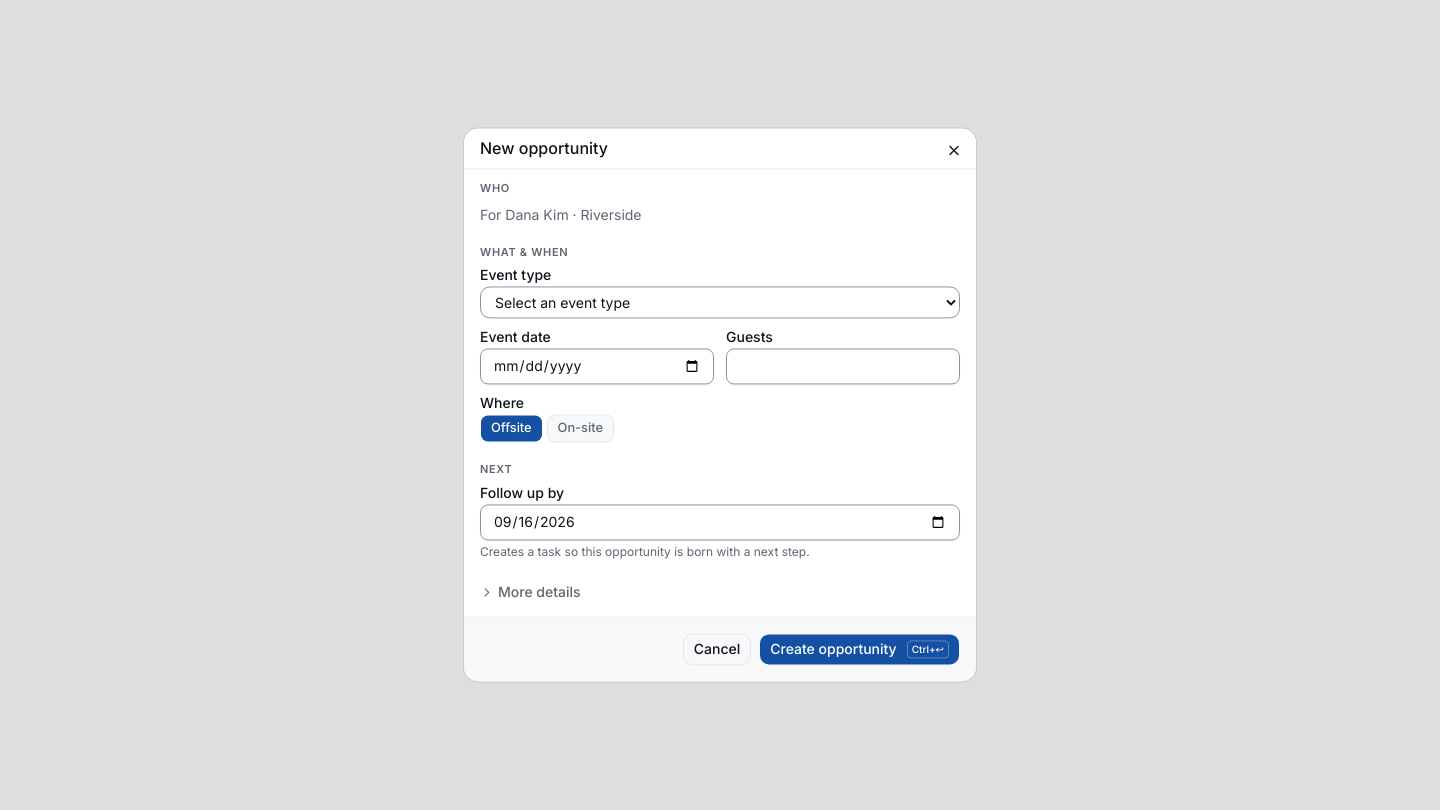
NewOpportunityForm linked mode › delivery-mode toggle › hides the Where toggle while the picked/typed type matches a profile, and restores it after
Expected: the element named "Where" is shown, [480, 415, 614, 443]
Select "Wedding" in the dropdown labelled "Event type": [720, 303] box [480, 287, 960, 319]
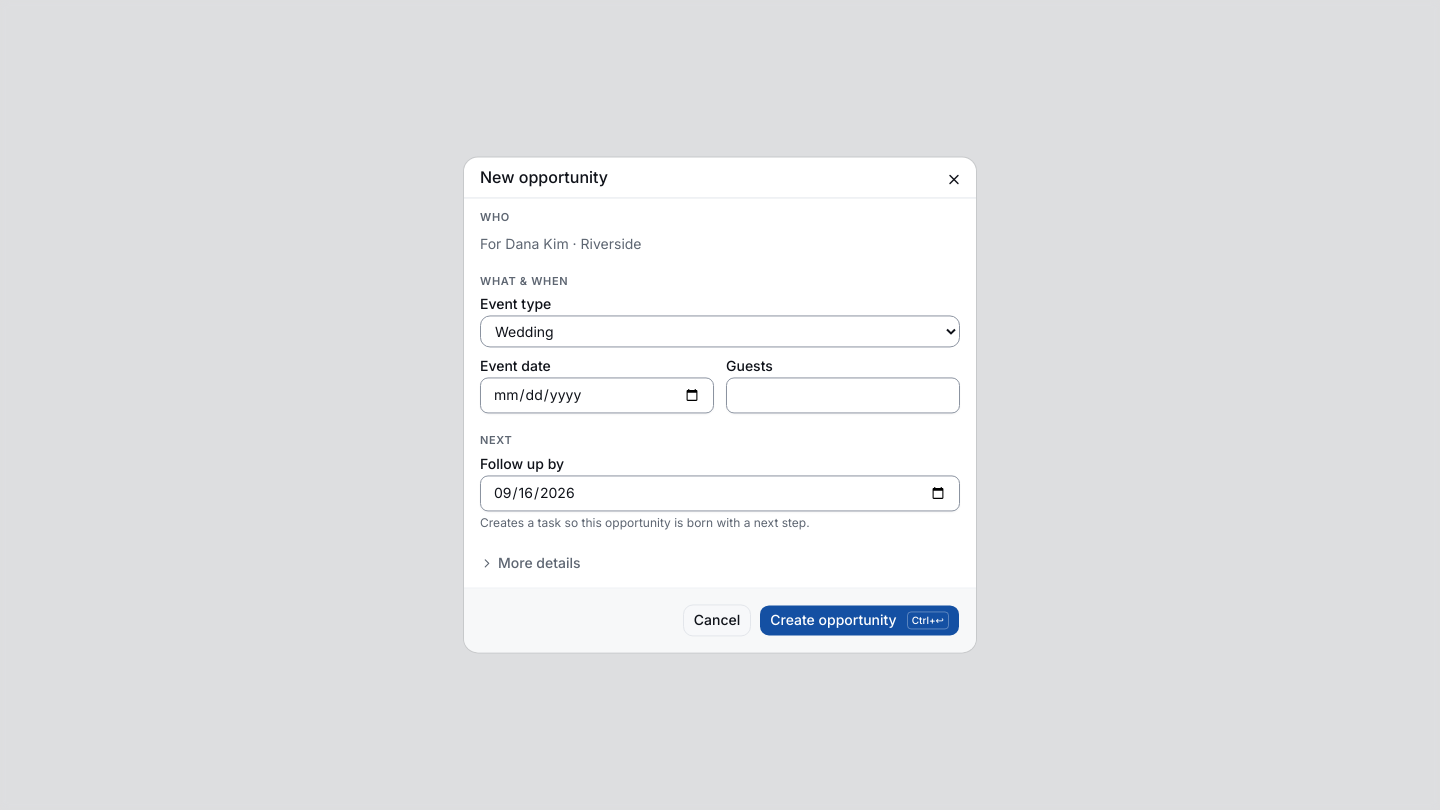
Result: the label "Where" is gone
# "Something else…" empties the value → no match → the toggle returns…
Select "Something else…" in the dropdown labelled "Event type": [720, 332] box [480, 316, 960, 348]
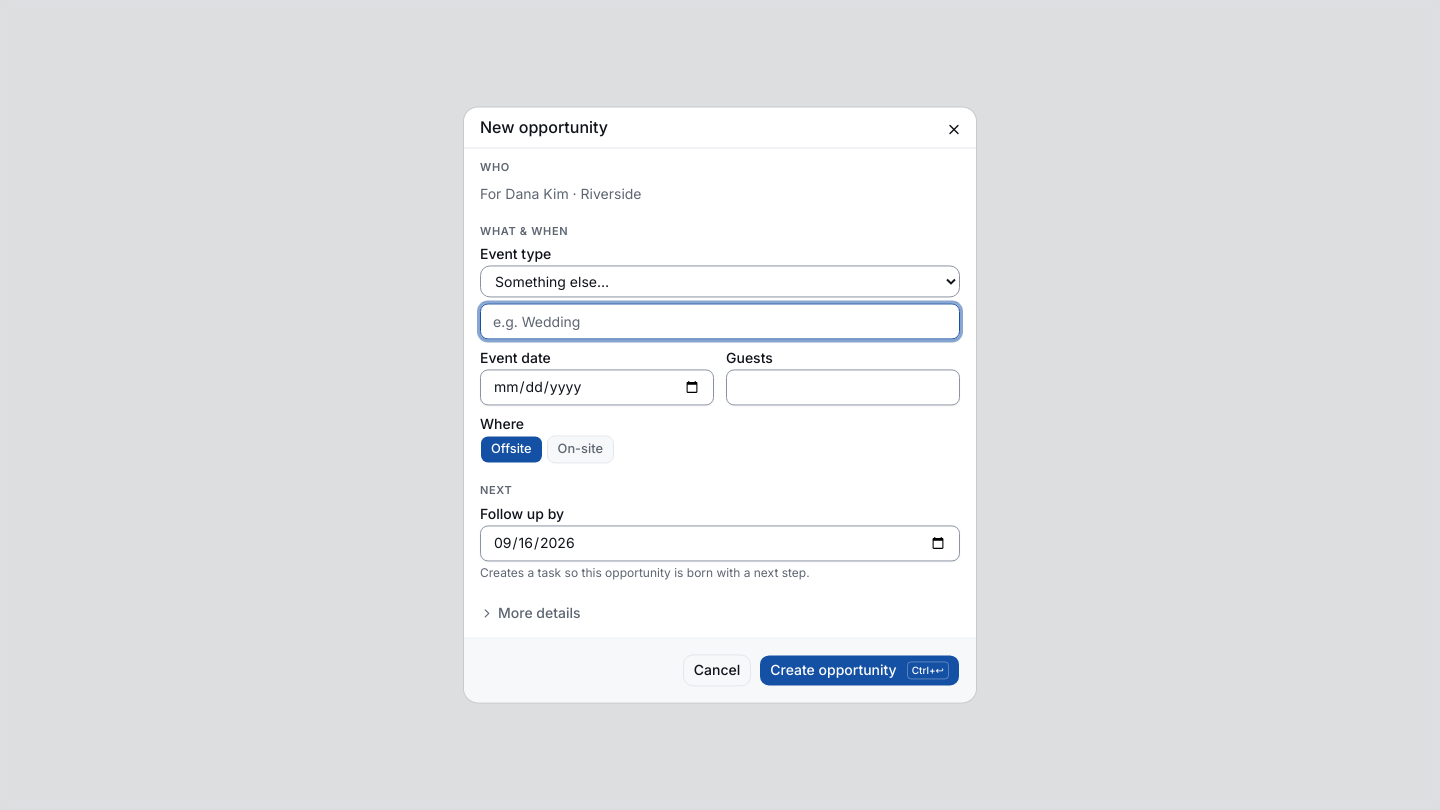
Result: the element named "Where" is shown at [480, 436, 614, 464]
In the field named "Custom event type": [720, 322] box [480, 304, 960, 340], type "  wedding "
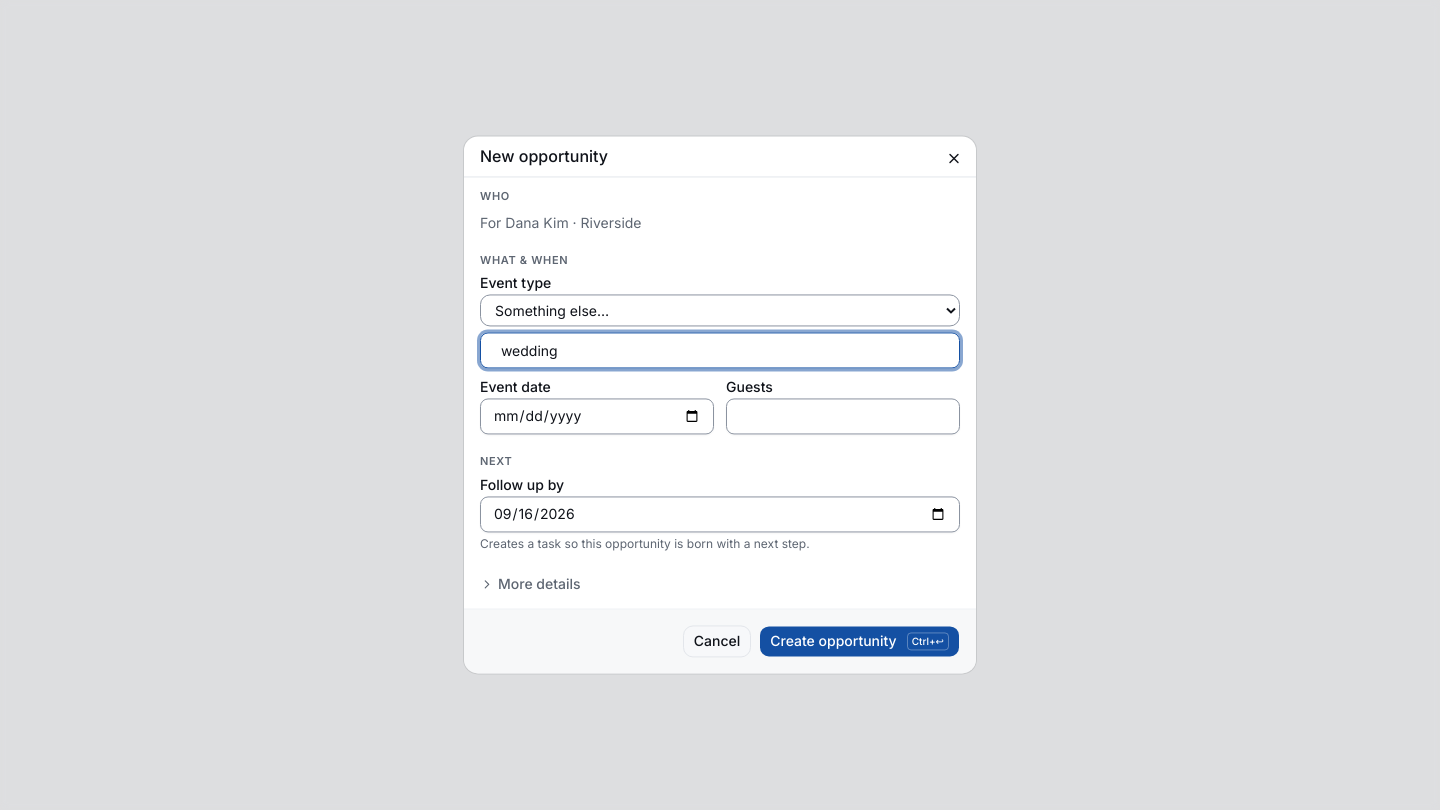
Result: the label "Where" is gone
Replace the text in the field named "Custom event type" with "Birthday": [720, 351] box [480, 333, 960, 369]
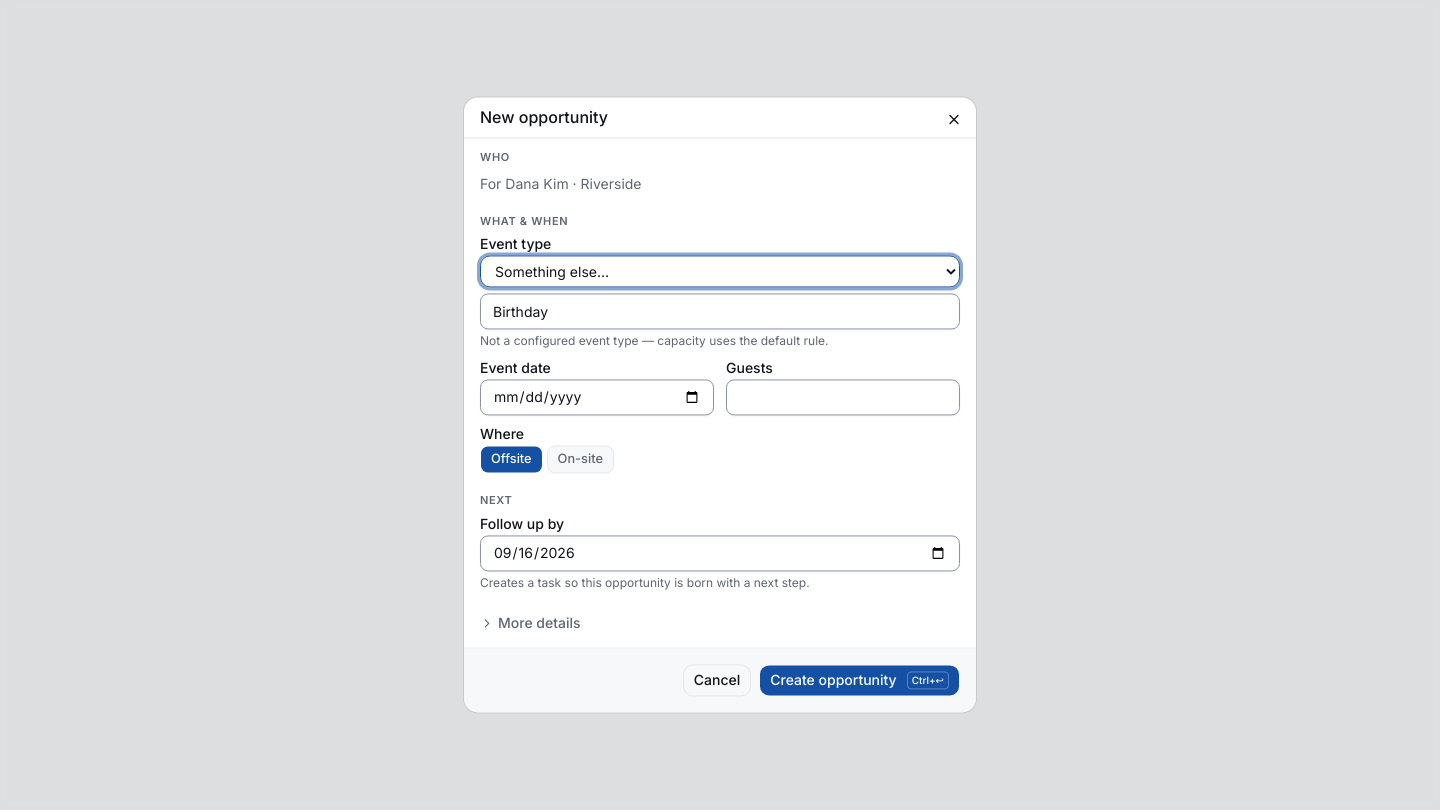
Result: the element named "Where" is shown at [480, 446, 614, 474]
